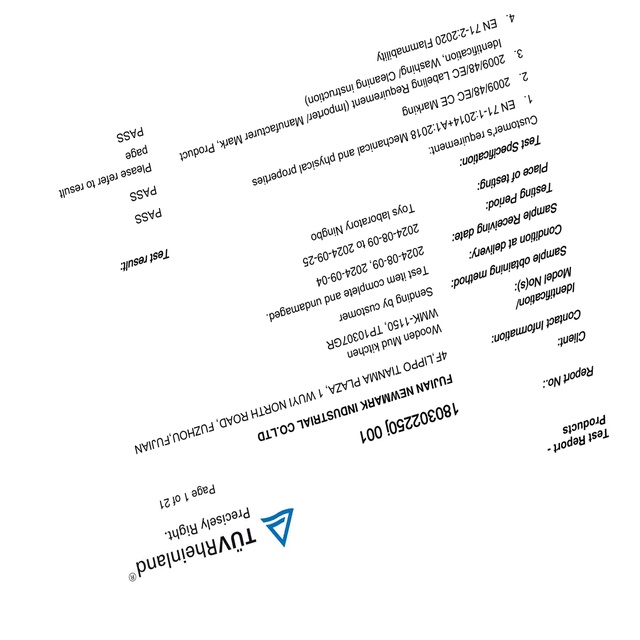tuv_rheinland: (127, 500, 297, 583)
